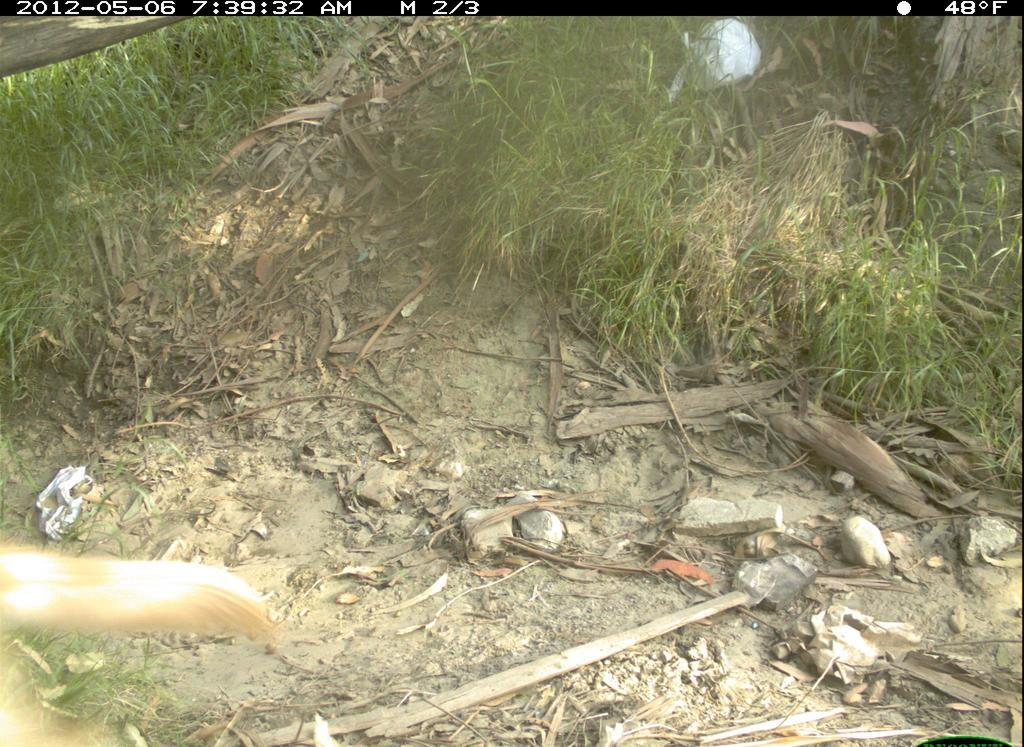dog: (1, 518, 280, 747)
